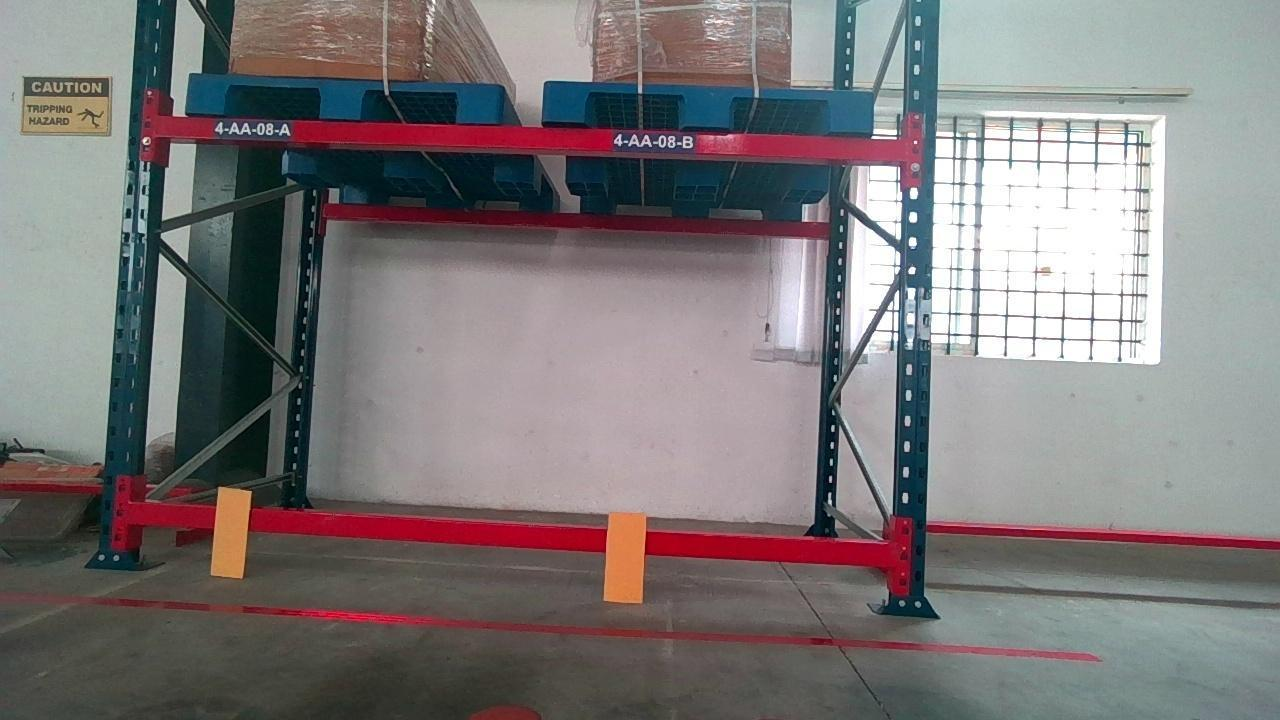h_rack: (127, 505, 892, 568), (159, 117, 912, 168)
orange_strip: (604, 511, 645, 602), (210, 488, 250, 574)
red_line: (47, 589, 1109, 665)
small_pallet: (547, 83, 874, 129), (183, 77, 498, 118)
